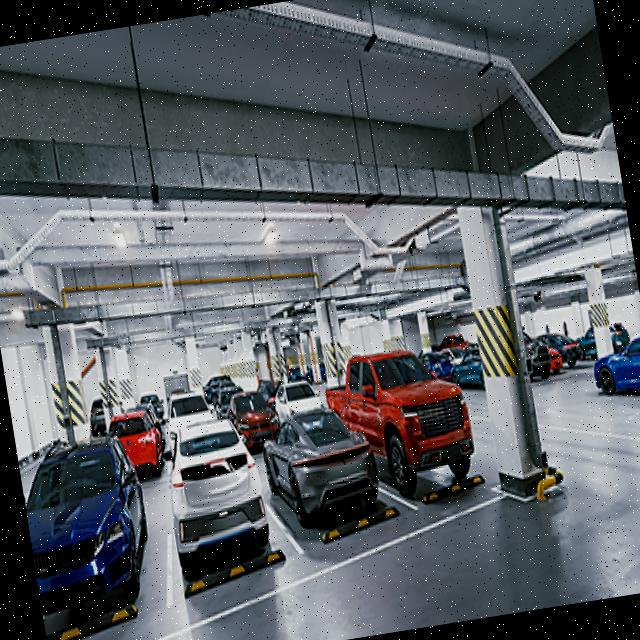Car: (147, 403, 312, 621), (16, 422, 179, 640), (332, 332, 496, 542), (250, 385, 398, 562)
